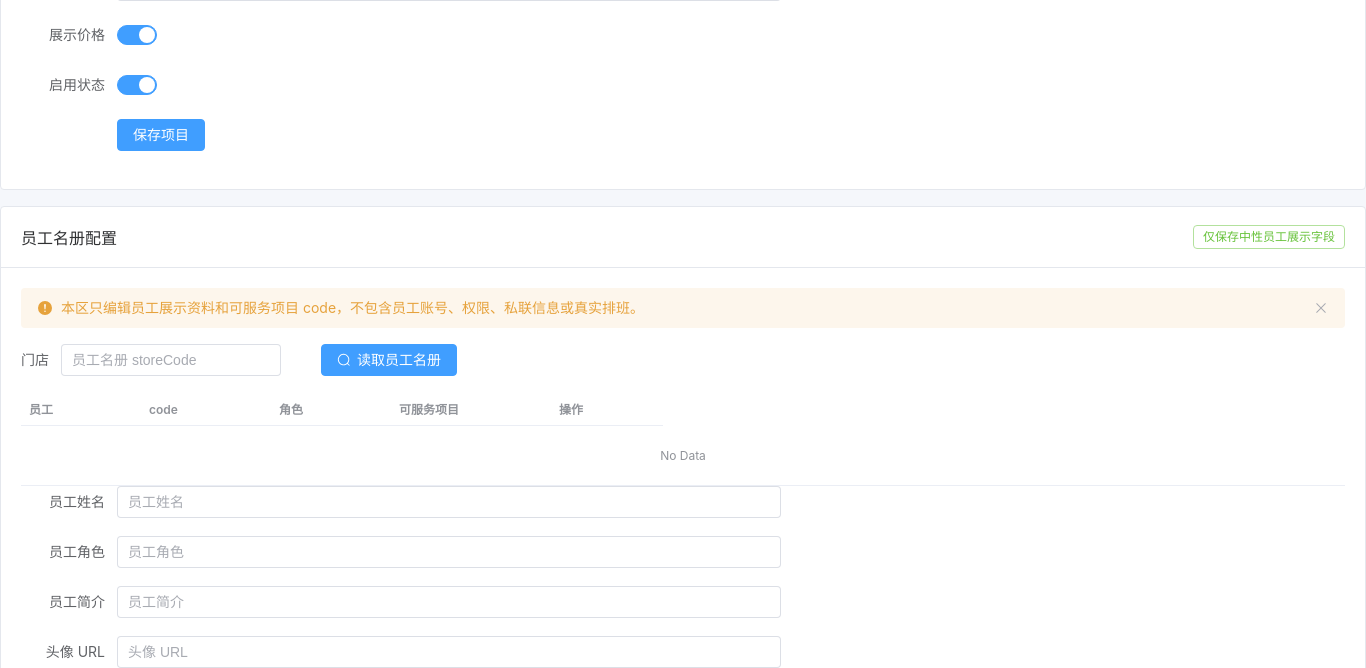
it: StoreAppointmentsPage › keeps selected staff draft when save fails
The image size is (1366, 668).
(page scrolled)
Type "store-config-001" into the field with placeholder "员工名册 storeCode".
click(171, 360); type("store-config-001")  # box [72,345,270,375]
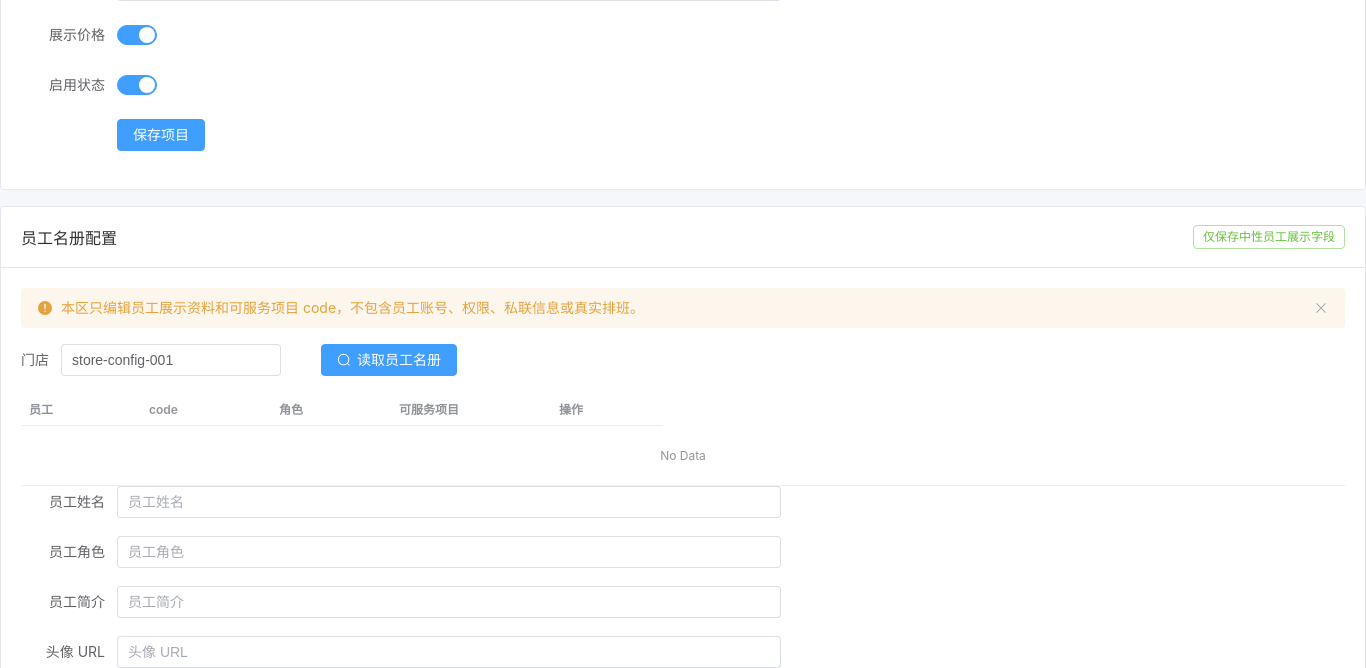
Click the button "读取员工名册".
click(389, 360)  # box [321,344,457,376]
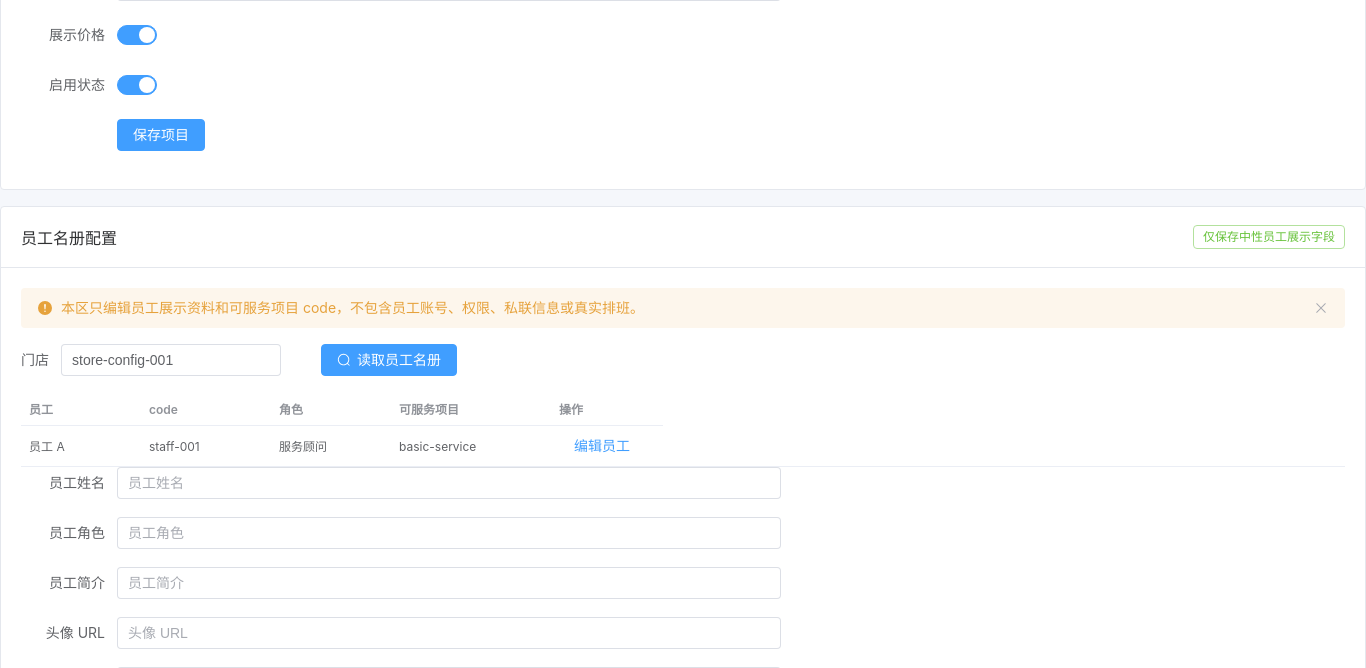
Click the button "编辑员工".
click(602, 446)  # box [559,430,645,462]
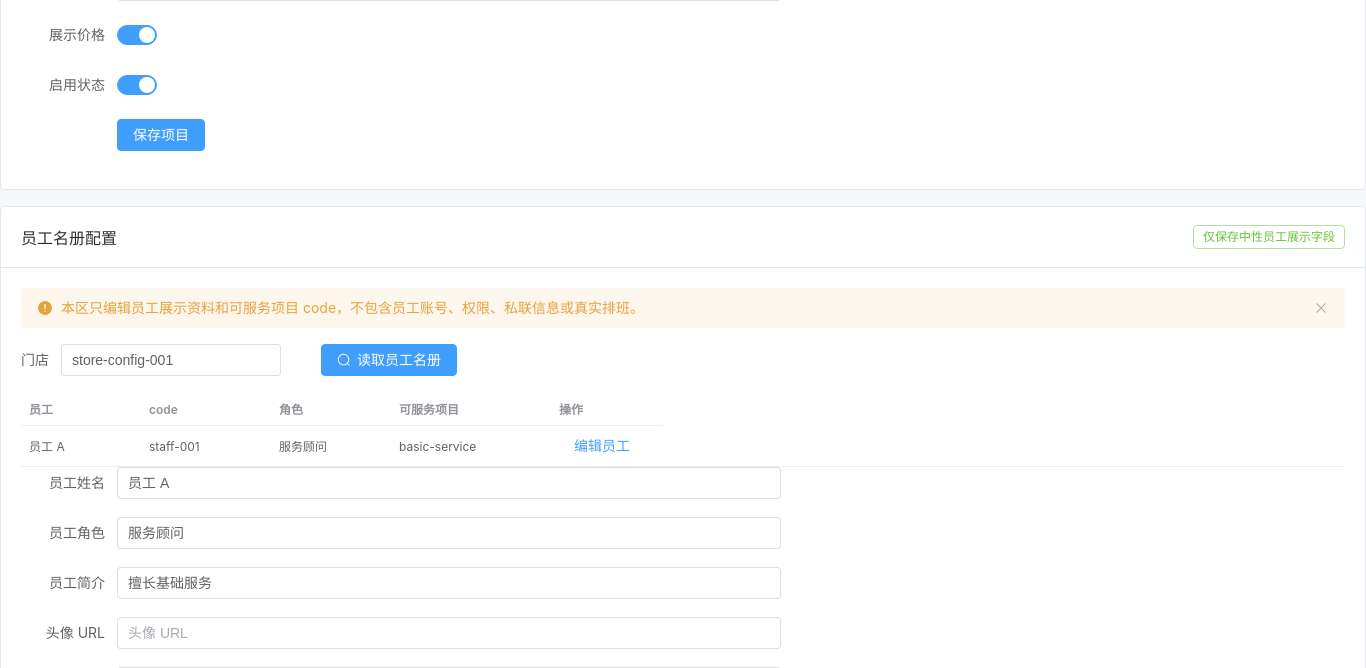
Replace the text in the field with placeholder "员工姓名" with "失败后仍保留员工" at {"x": 449, "y": 483}, box [128,468,770,498]
(page scrolled)
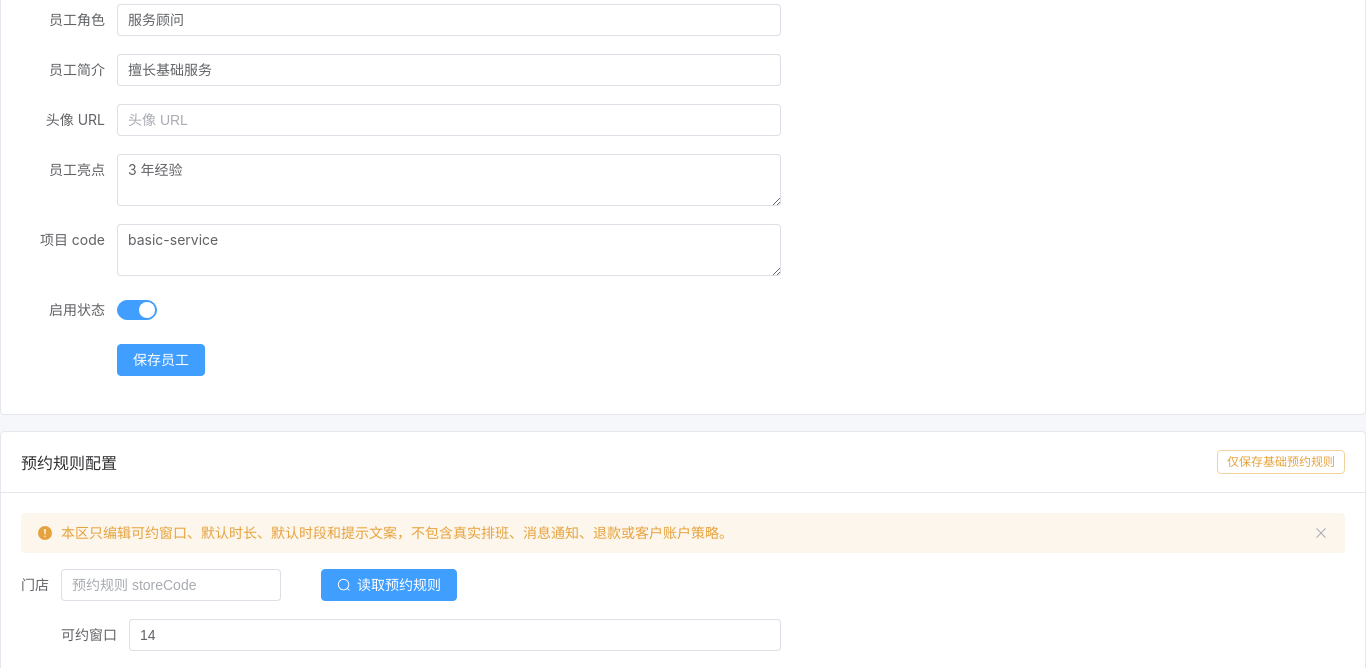
Click the button "保存员工".
click(161, 360)  # box [117,344,205,376]
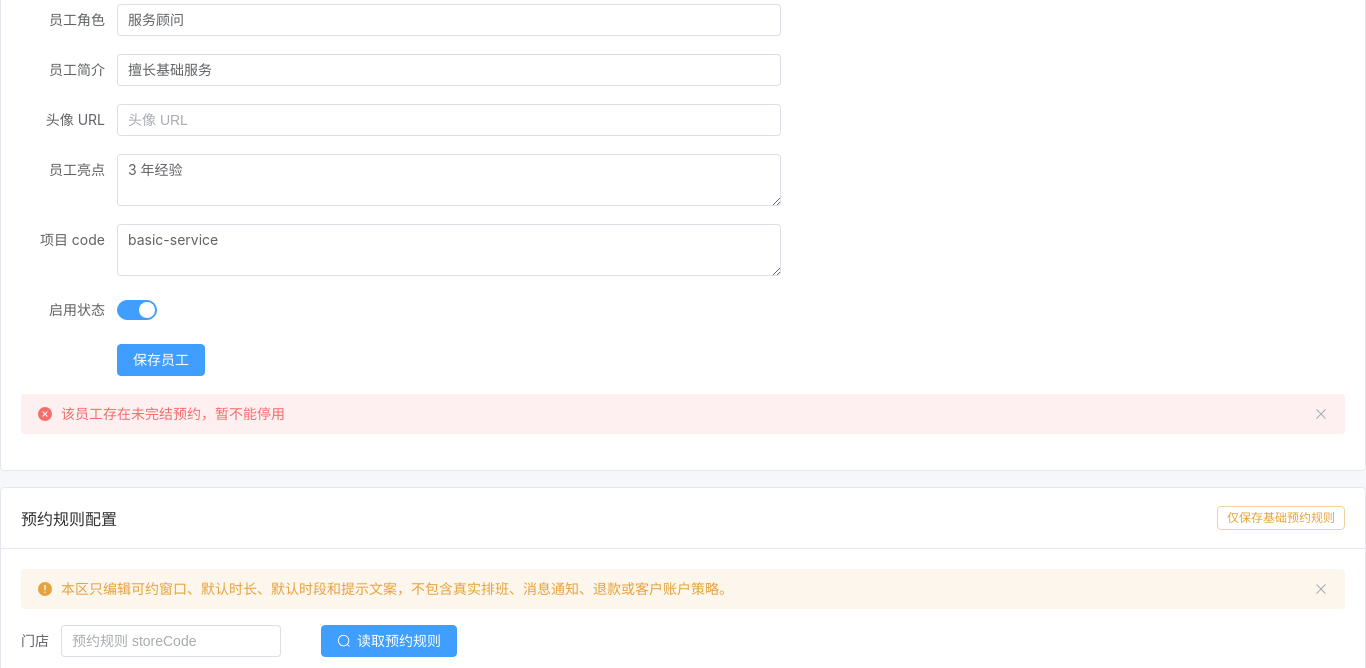
Result: the text "该员工存在未完结预约，暂不能停用" is shown at [61,402,285,426]
